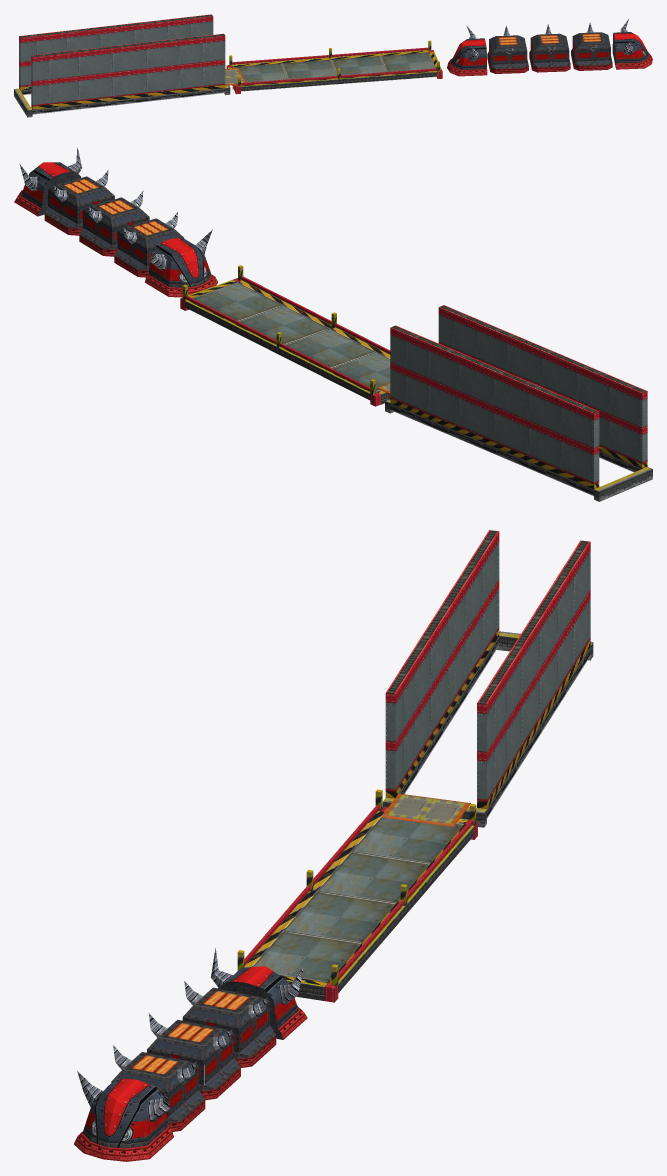
Rendered from Mad_express3.obj.
3 renders of one model, top to bottom at view 1: azimuth 30°, elevation 25°; view 2: azimuth 150°, elevation 25°; view 3: azimuth 270°, elevation 25°, orthographic. The views are drawn at different scales.
Parts seen in each view (by area): view 1: obj1, Object_2; view 2: obj1, Object_2; view 3: obj1, Object_2.
Boxes of the visible parts, x1,y1,x2,y2 form: obj1: [14, 14, 442, 117]; Object_2: [229, 18, 652, 86]; obj1: [180, 278, 652, 501]; Object_2: [14, 147, 390, 394]; obj1: [237, 530, 593, 1002]; Object_2: [74, 789, 476, 1161].
Size of the model in its own units: 1167 by 126 by 495.
